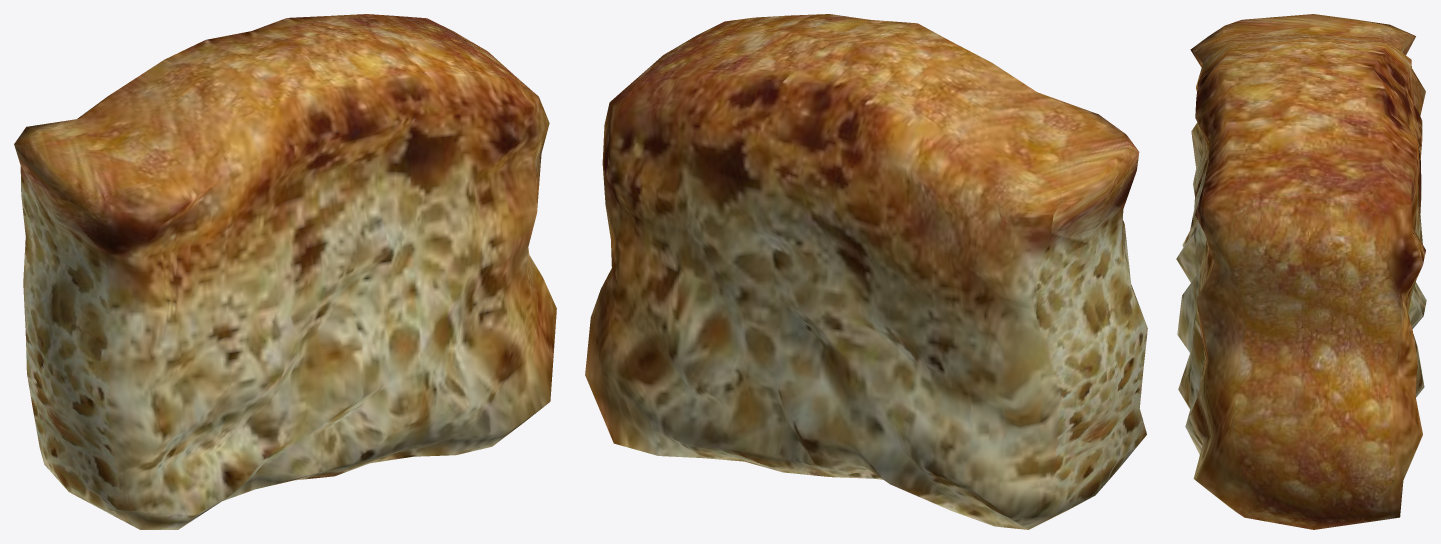
Rendered from fish food.FBX.
The picture shows the model from 3 angles, left to right: view 1: azimuth 30°, elevation 25°; view 2: azimuth 150°, elevation 25°; view 3: azimuth 270°, elevation 25°; orthographic projection. The views are drawn at different scales.
Visible parts, largest first — view 1: Box001; view 2: Box001; view 3: Box001.
Part boxes in pixels (x1=…): Box001: x1=14, y1=14, x2=556, y2=529; Box001: x1=585, y1=14, x2=1147, y2=529; Box001: x1=1176, y1=14, x2=1426, y2=529.
Size of the model in its own units: 48.75 by 41.19 by 24.13.
